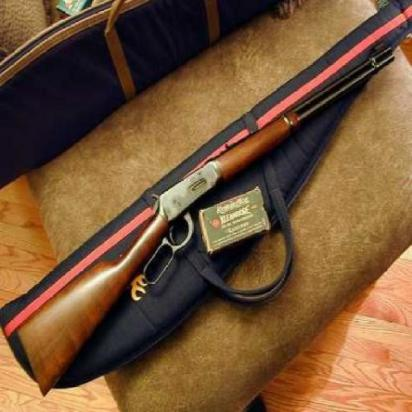Gun: (11, 46, 400, 398)
